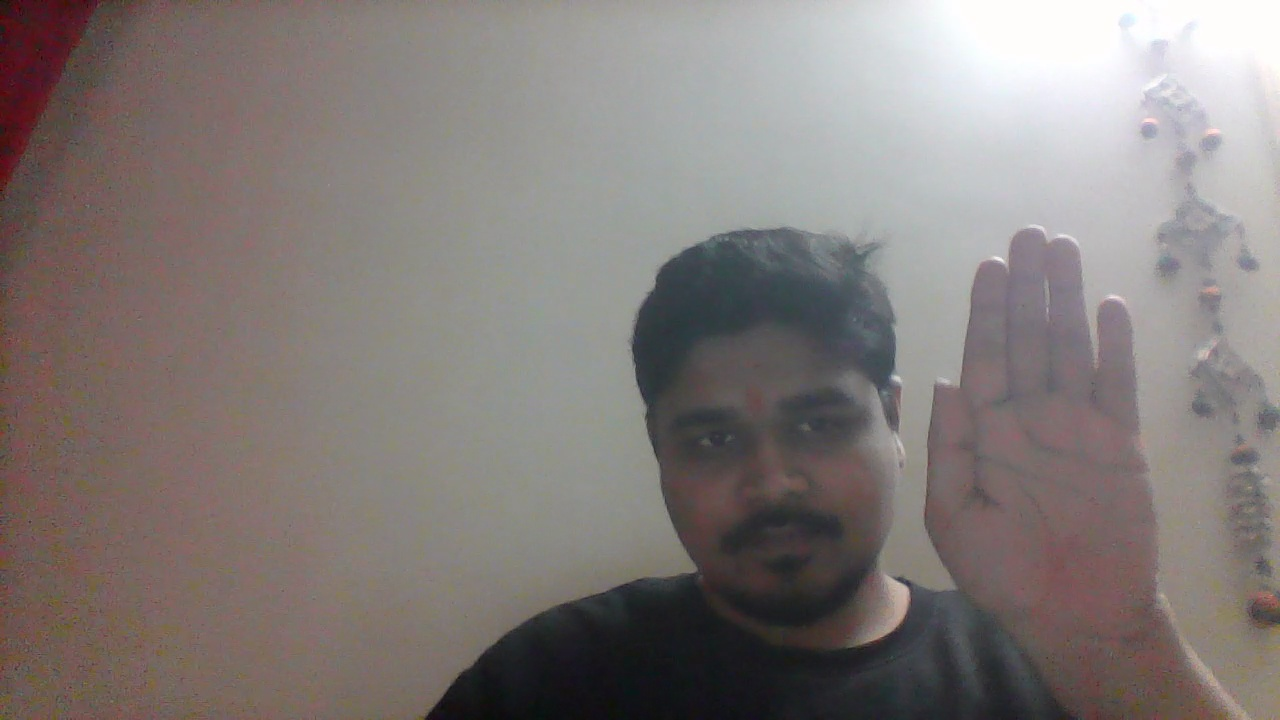Hello: (917, 225, 1156, 676)
